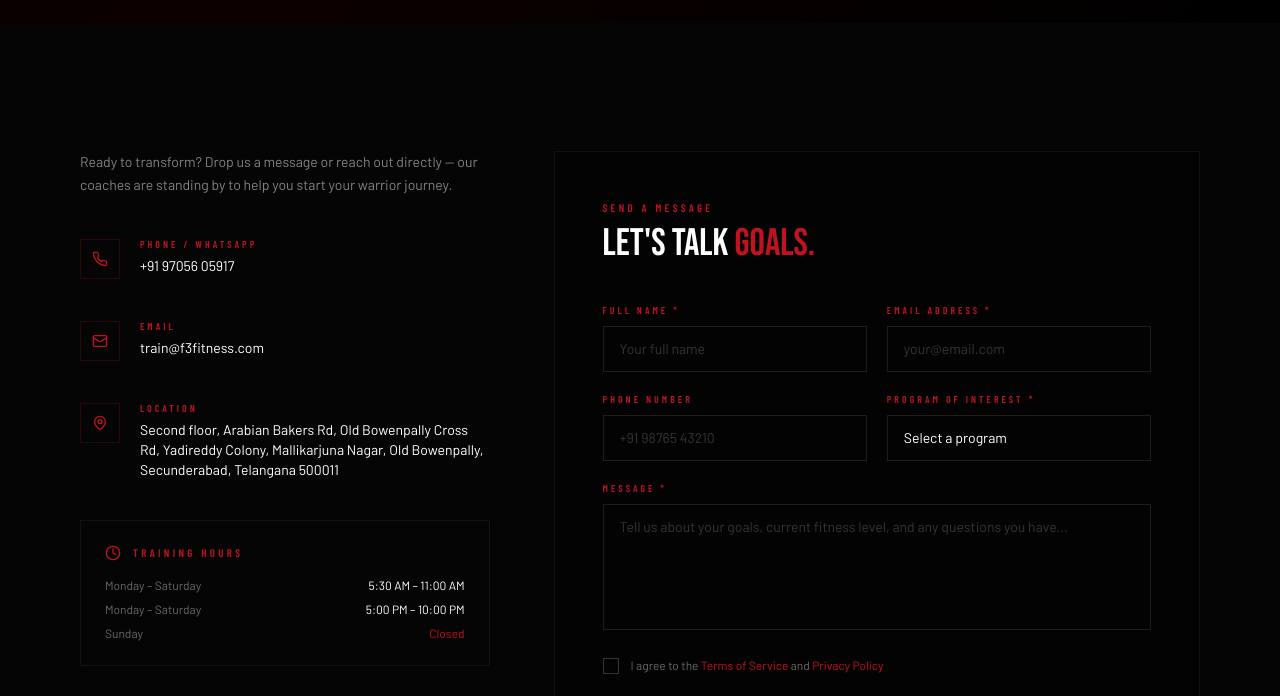
Test case: Contact Page › shows success on valid submission
The width and height of the screenshot is (1280, 696).
(page scrolled)
In the field with placeholder "Your full name": [735, 349] box [603,326,867,372], type "Arjun Mehta"
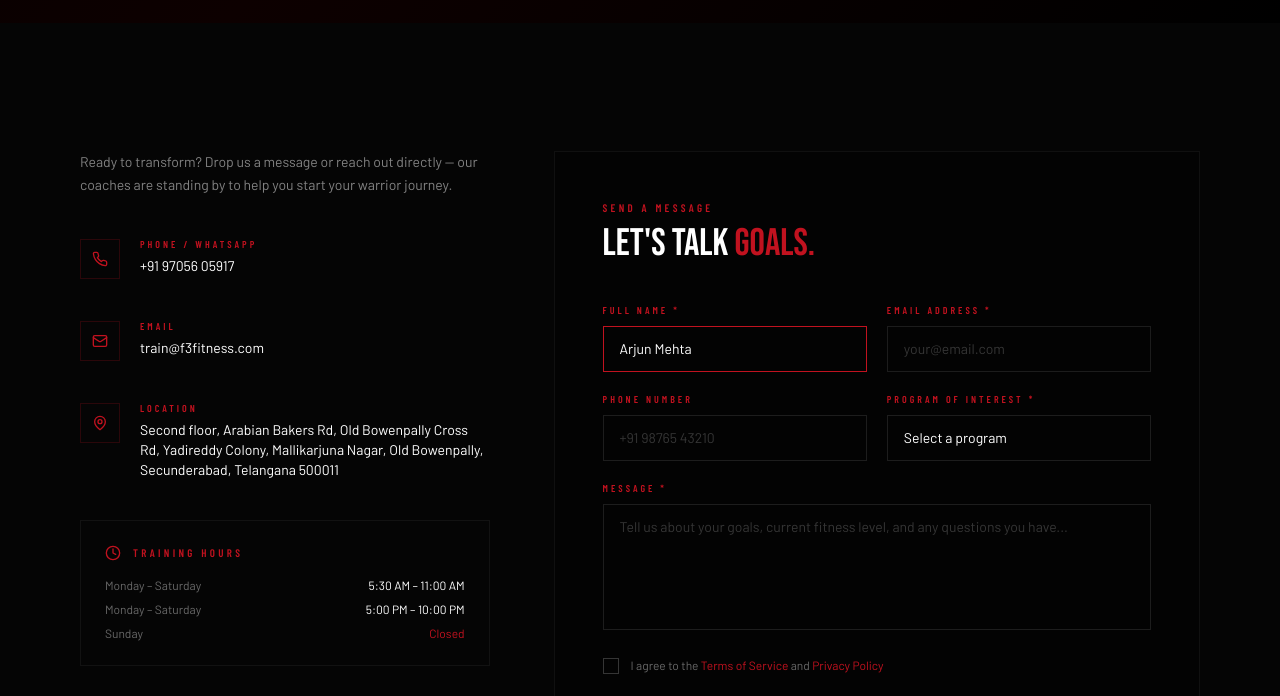
In the field with placeholder "your@email.com": [1019, 349] box [887,326,1151,372], type "arjun@test.com"
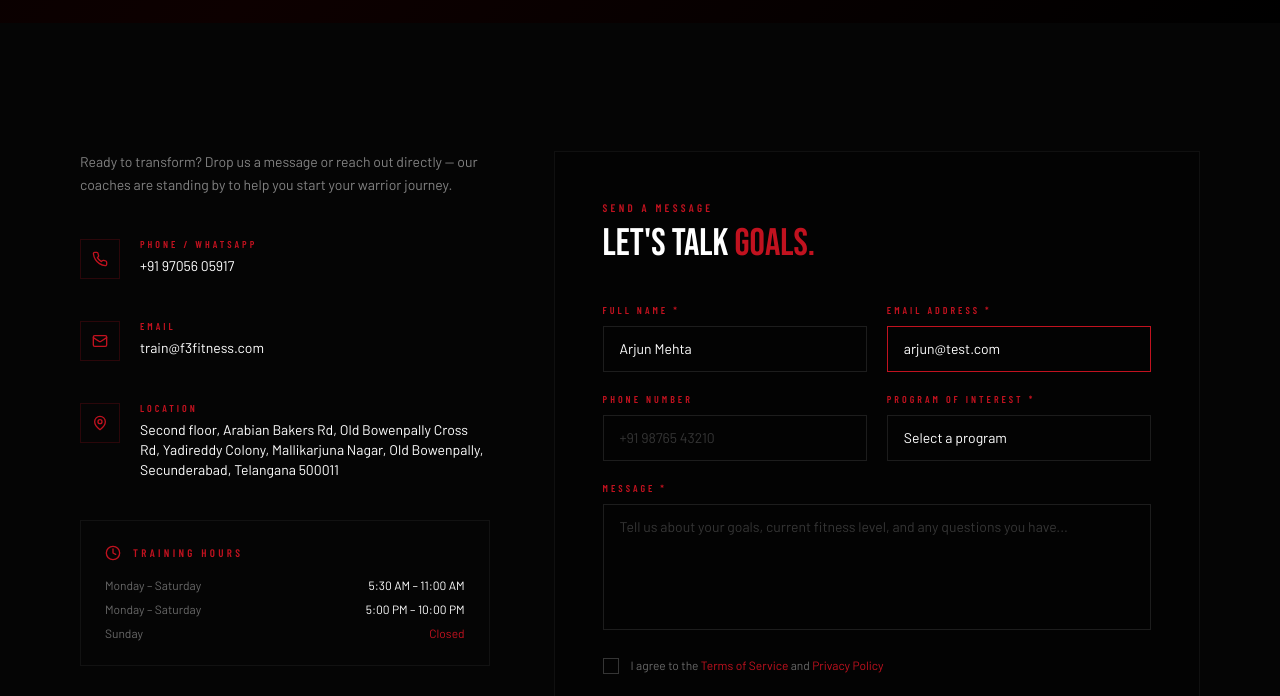
Select "Personal Training" in the dropdown: [1019, 438] box [887,415,1151,461]
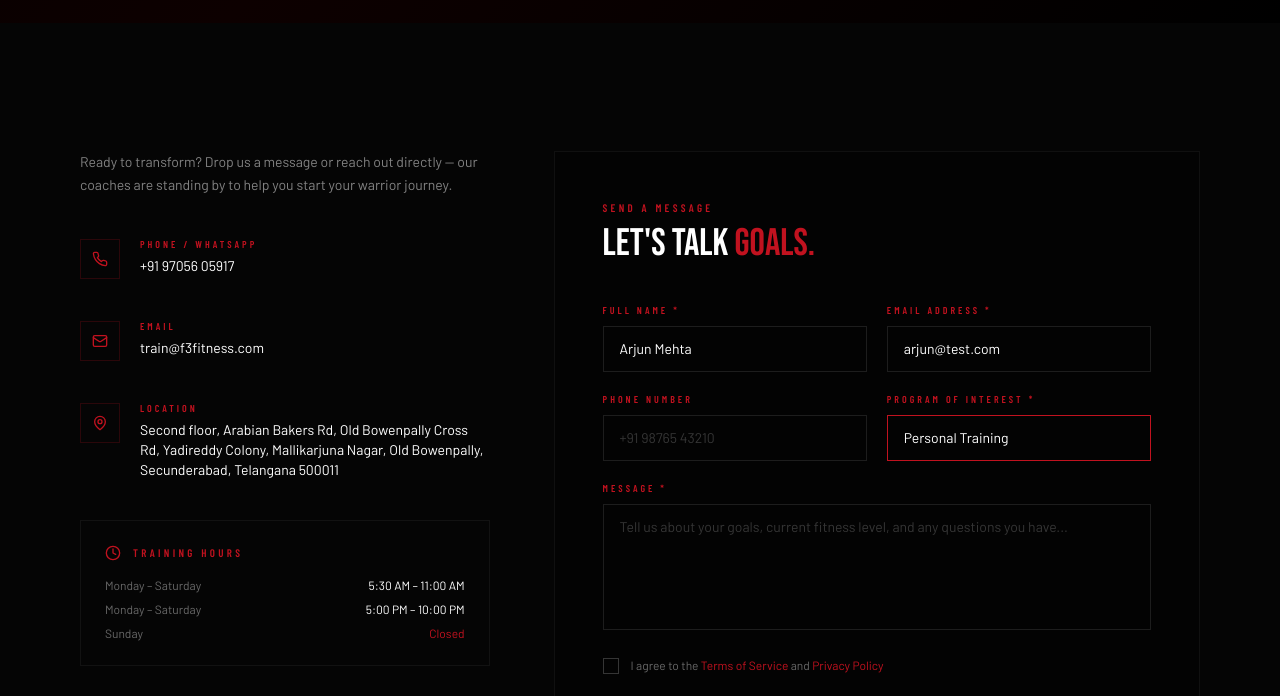
In the text box with placeholder "Tell us about": [877, 567] box [603,504,1151,630], type "I want to build strength and improve fitness performance"
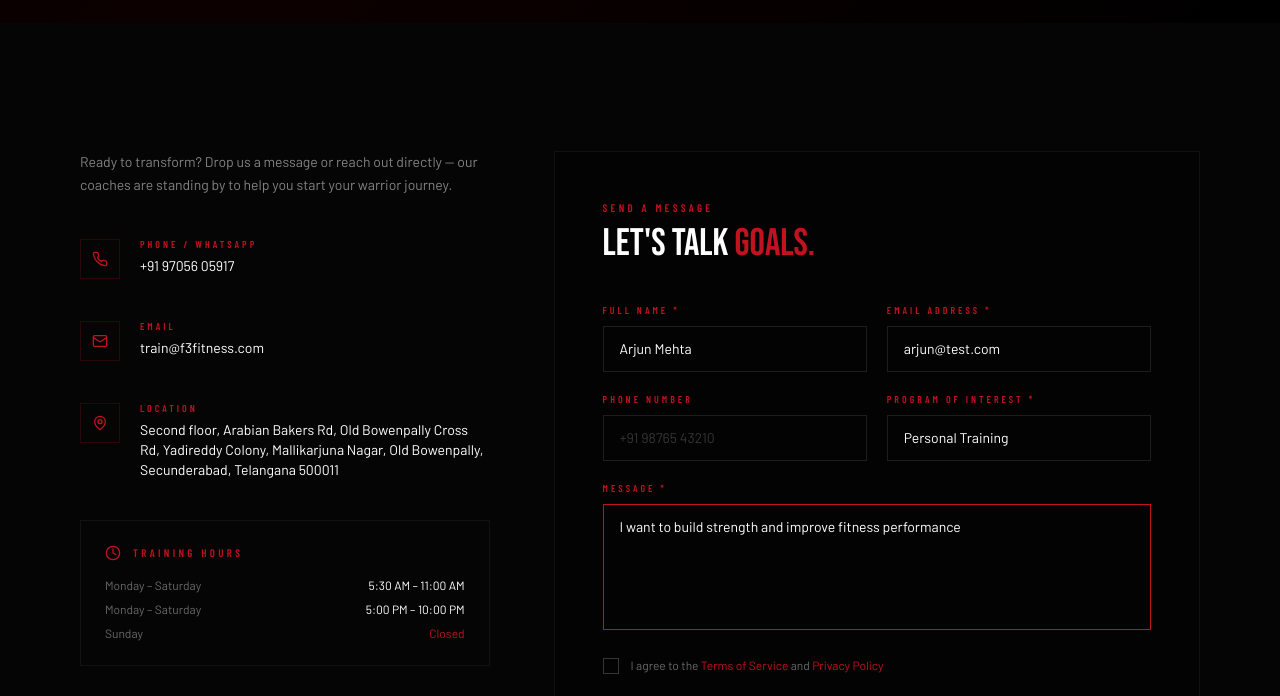
Click the checkbox: [743, 666] box [603,658,884,674]
(page scrolled)
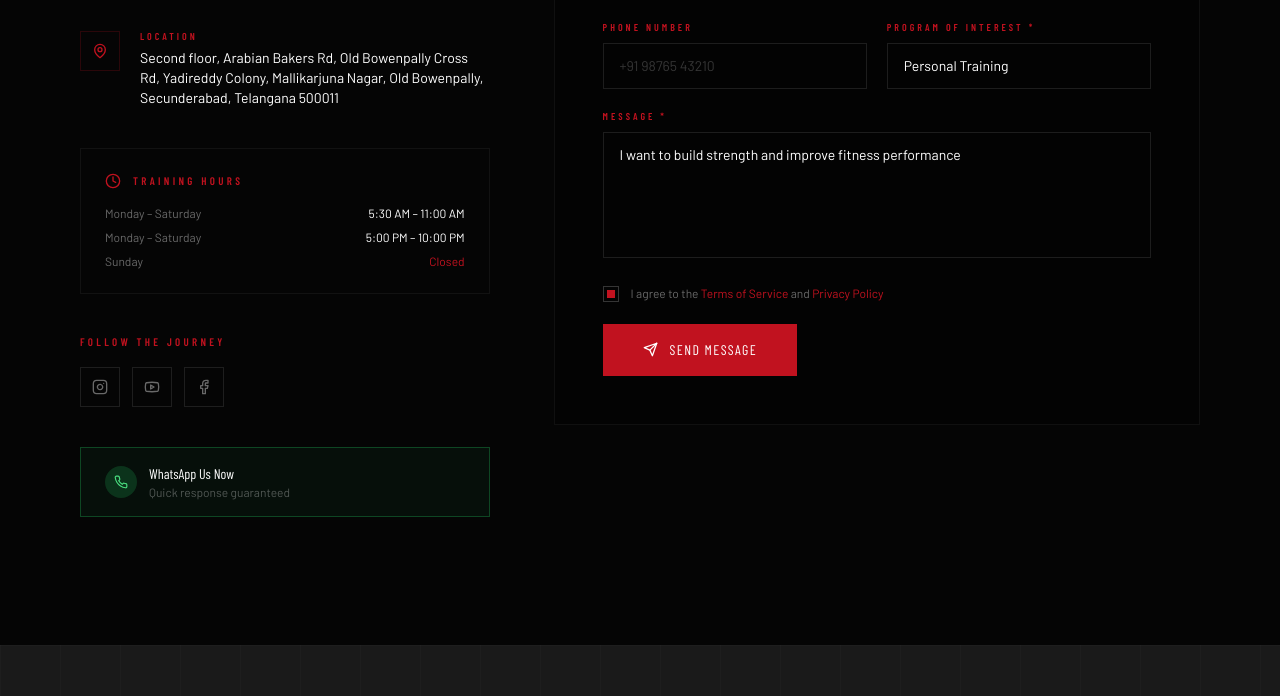
Click the button "Send Message": [700, 350] box [603,324,797,376]
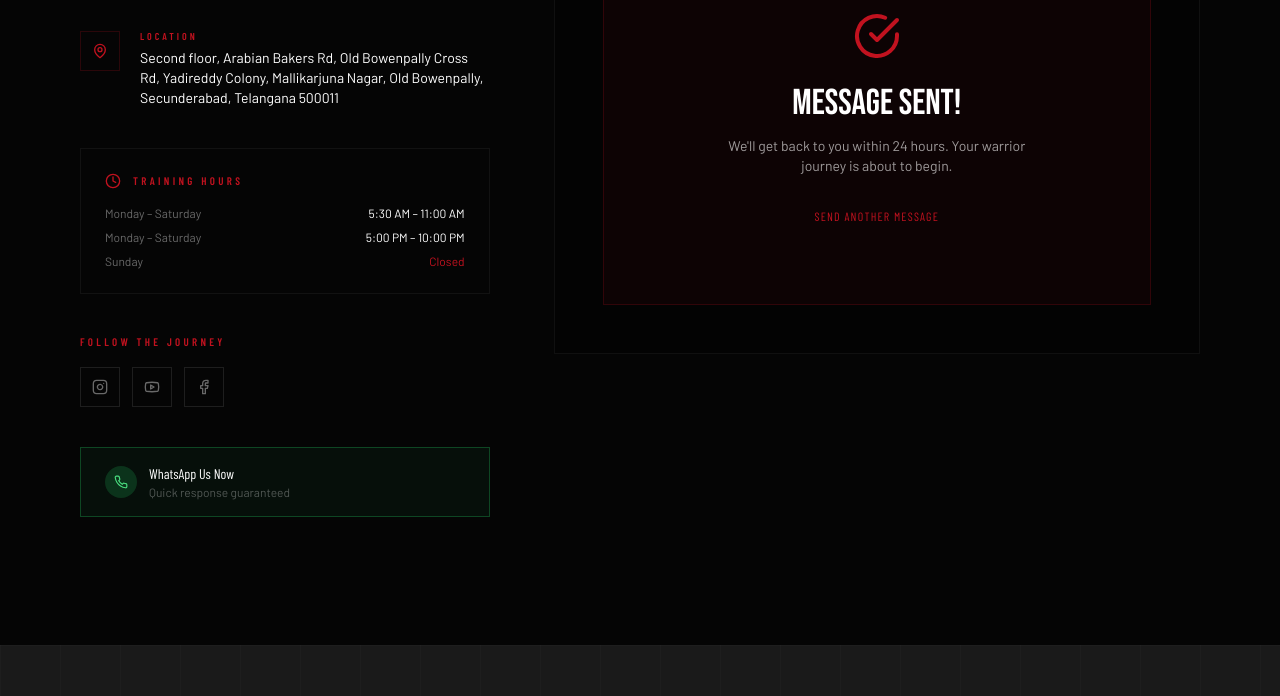
Now the heading "MESSAGE SENT!" is shown, box [792,84,961,124]
